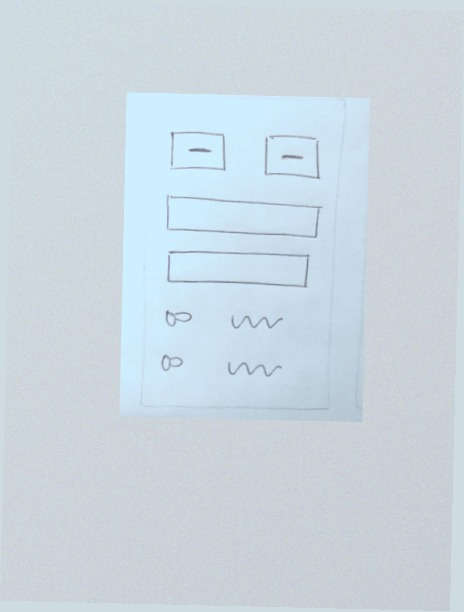button: (166, 125, 232, 180), (258, 130, 324, 184)
switch: (157, 349, 194, 375), (158, 306, 196, 331)
text: (224, 309, 286, 336), (223, 355, 285, 382)
text_input: (162, 191, 325, 244), (164, 245, 311, 295)
